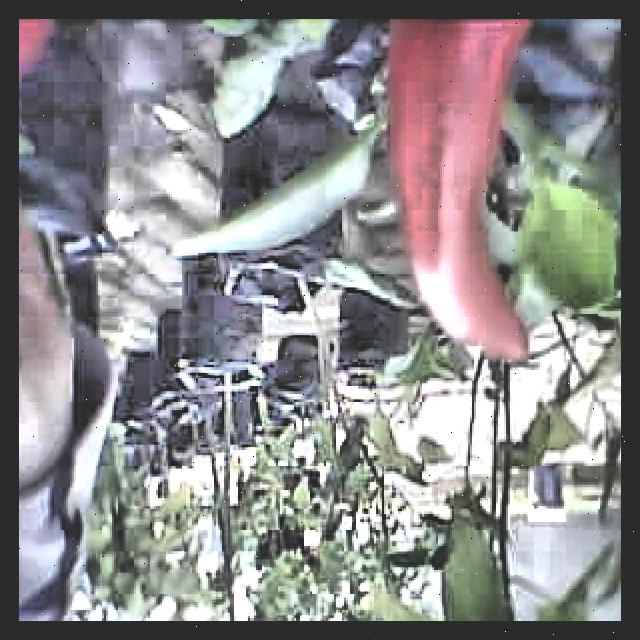Cabai: (377, 19, 541, 375)
